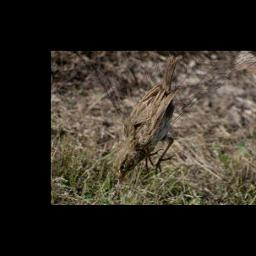Sparrow: (114, 52, 182, 186)
